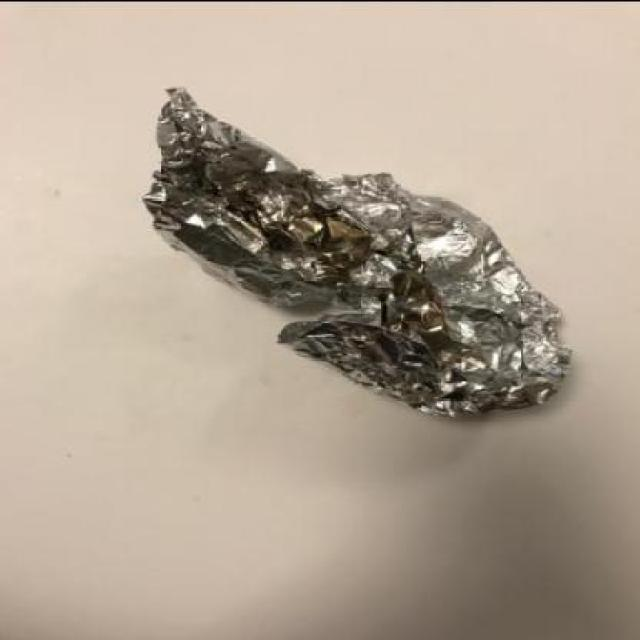METAL: (147, 84, 575, 418)
